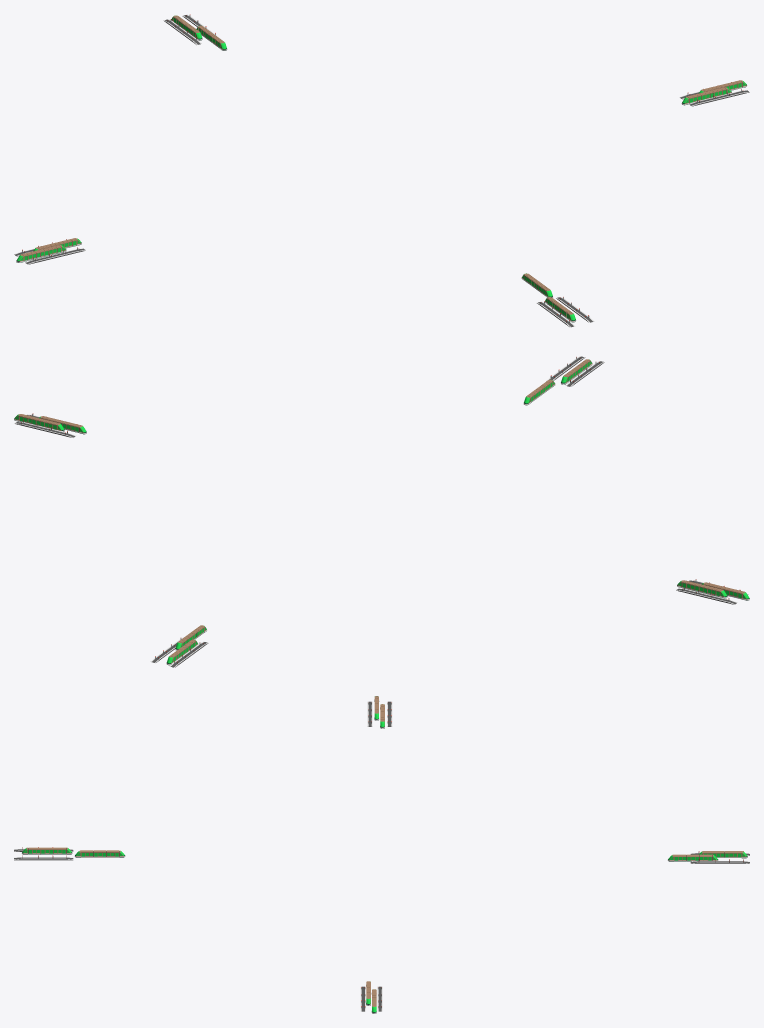
The model's file is tram.gltf.
The picture shows the model from 3 angles, top to bottom: view 1: azimuth 30°, elevation 25°; view 2: azimuth 150°, elevation 25°; view 3: azimuth 270°, elevation 25°; orthographic projection. The views are drawn at different scales.
Parts seen in each view (by area): view 1: arret; view 2: arret; view 3: arret.
Boxes of the visible parts, box(x1,y1,x2,y2) form: arret: box(14, 14, 749, 327); arret: box(14, 356, 748, 667); arret: box(14, 701, 749, 1011).
Size of the model in its own units: 3.9 by 0.0306 by 3.86.
